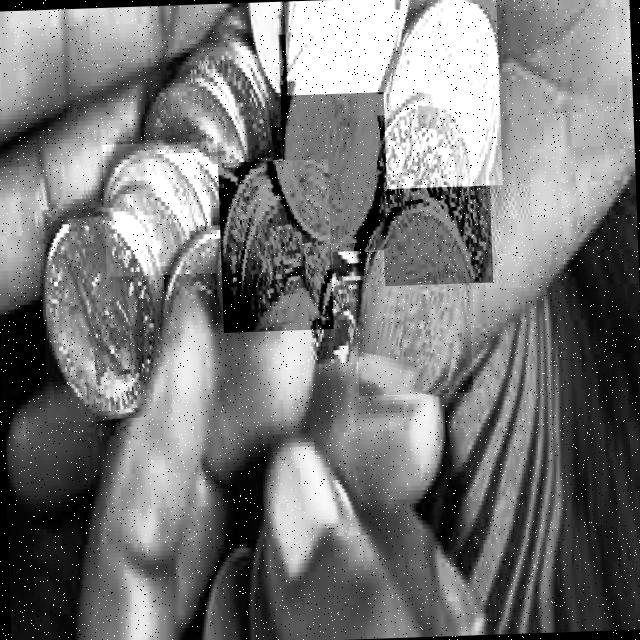juroom derem: (103, 142, 219, 274)
niaari fukk: (43, 205, 160, 420), (282, 32, 387, 251), (384, 0, 499, 185), (357, 209, 467, 393), (381, 108, 490, 282), (221, 161, 330, 331), (286, 0, 399, 91)
